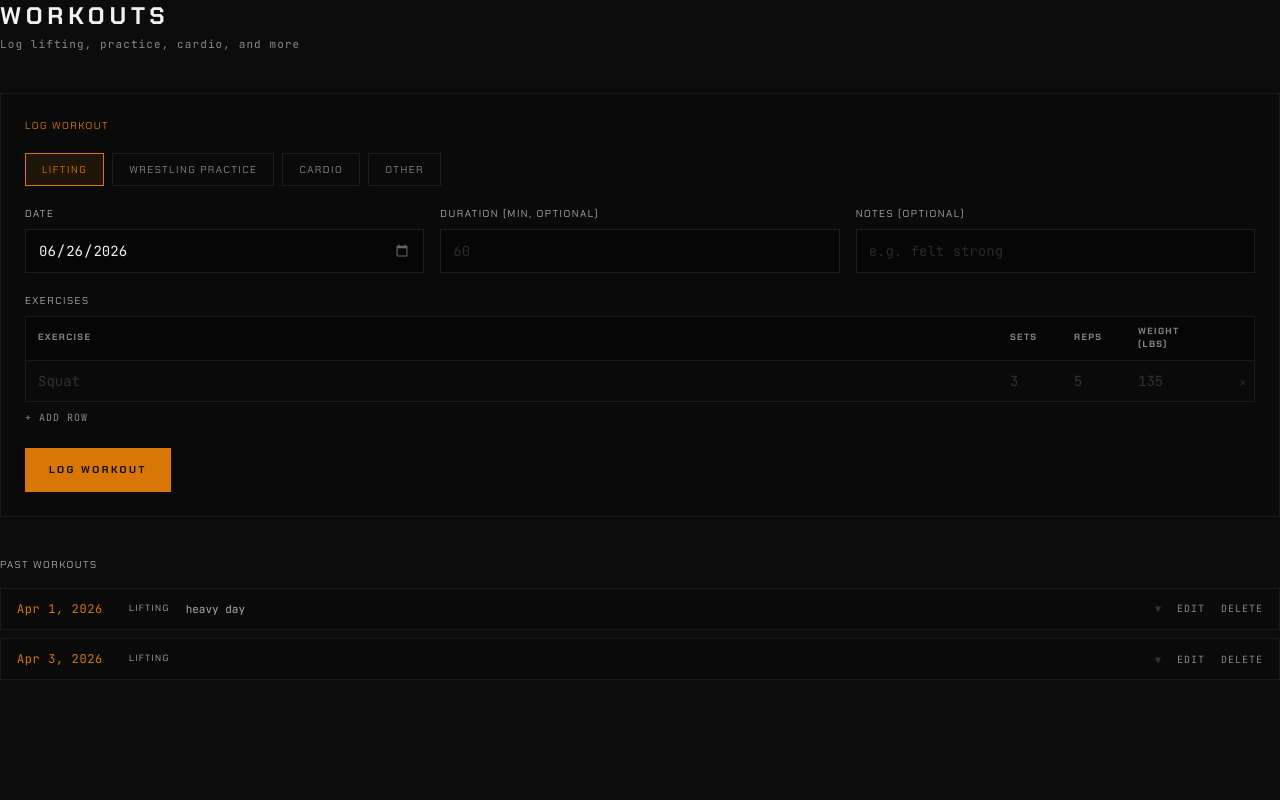
Test: Workouts › delete confirmation dialog appears and works
This screenshot has width=1280, height=800.
Expected: the text "heavy day" is shown, 186,600 -> 245,617
// Click DELETE on first workout
Click the 1st button "DELETE": click(1242, 609) 1221,601 -> 1263,616
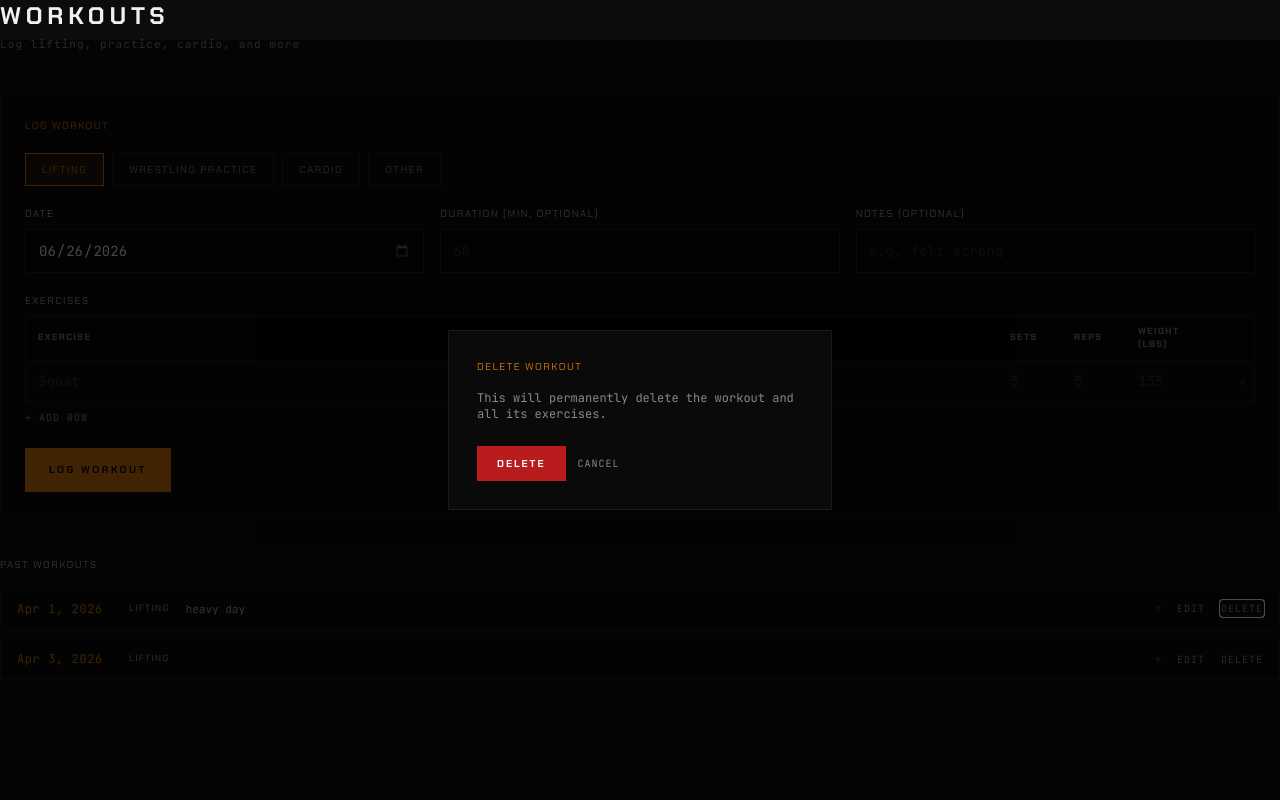
Result: the text "DELETE WORKOUT" is shown at 477,360 -> 582,373
Result: the text "permanently delete" is shown at 477,390 -> 794,422
// Click cancel
Click the button "CANCEL": click(598, 464) 578,446 -> 620,481
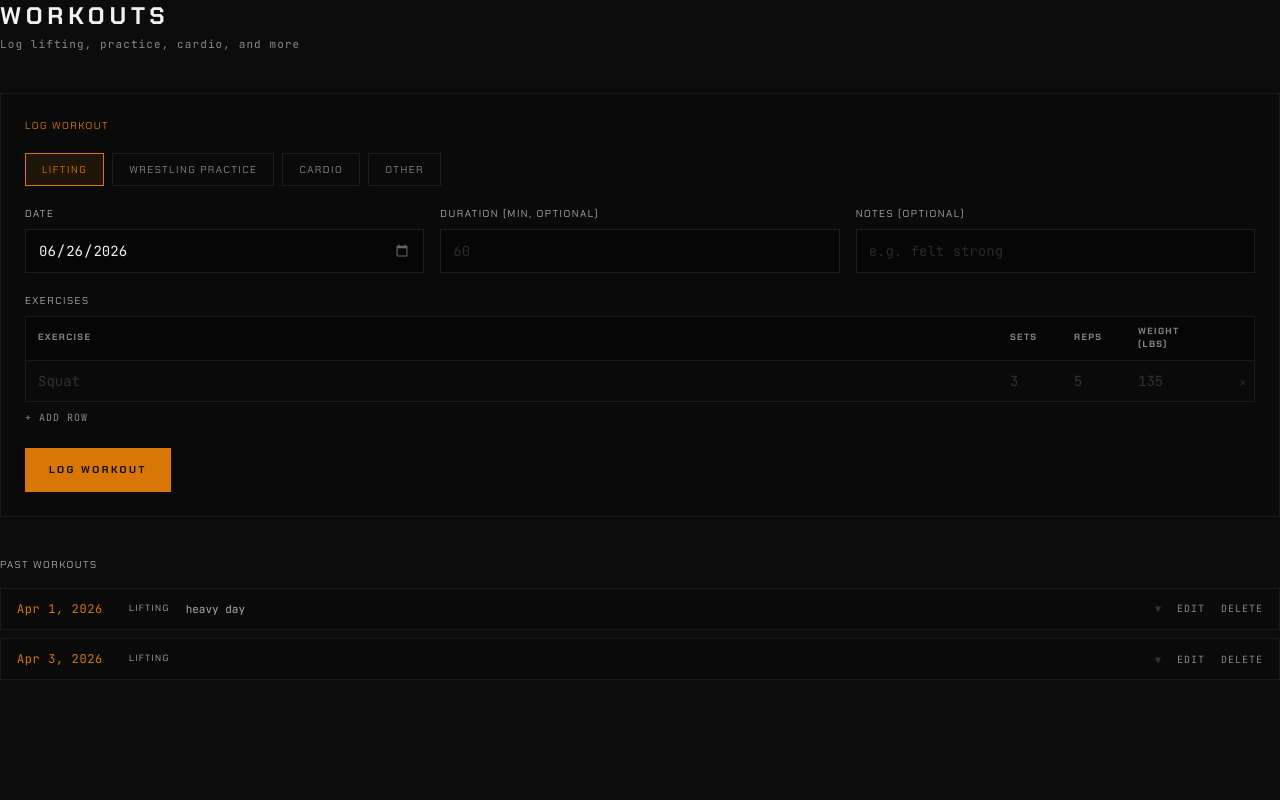
Result: the text "DELETE WORKOUT" is gone
